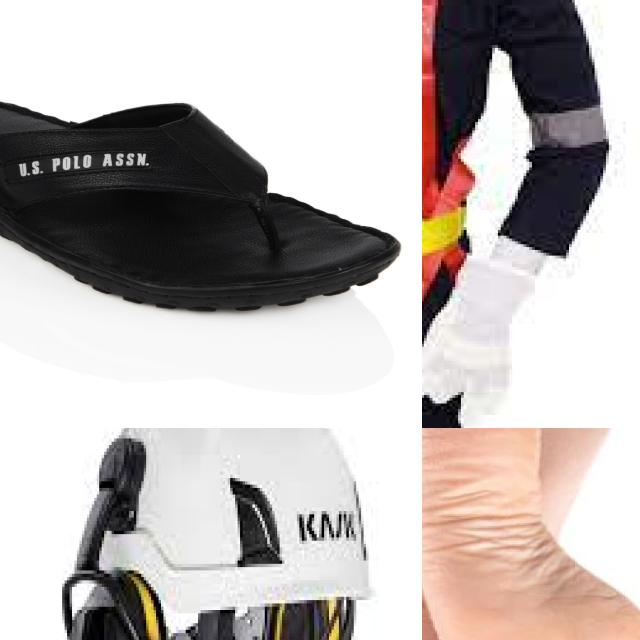Barefoots: (422, 428, 640, 640)
Ear-protection: (62, 564, 168, 640), (314, 596, 346, 640)
Harness: (422, 0, 476, 408)
Sandals: (0, 92, 404, 314)
head_helmet: (87, 428, 376, 616)
